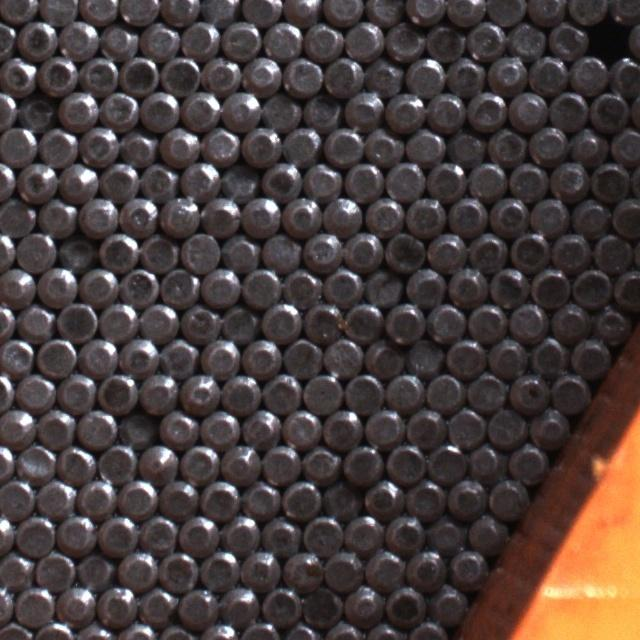tool: (261, 582, 303, 624), (385, 580, 427, 622), (527, 404, 569, 446), (17, 16, 58, 58), (362, 546, 403, 588), (591, 230, 632, 272), (550, 371, 592, 412), (383, 230, 424, 272), (13, 584, 54, 625), (342, 442, 383, 483), (341, 299, 382, 340), (55, 511, 96, 552), (117, 192, 158, 233), (445, 475, 486, 516), (158, 549, 199, 590), (116, 546, 156, 588), (322, 546, 362, 588), (384, 301, 426, 341), (56, 299, 98, 339), (137, 370, 177, 412), (321, 406, 361, 448), (569, 336, 611, 376), (179, 87, 219, 129), (405, 545, 445, 587), (468, 228, 508, 270), (528, 262, 570, 302), (302, 370, 342, 411), (404, 193, 444, 234), (36, 335, 77, 375), (14, 513, 55, 553), (342, 511, 383, 551), (178, 371, 218, 412), (17, 159, 58, 199), (448, 545, 488, 586), (200, 265, 240, 306), (362, 193, 402, 234), (33, 547, 74, 587), (549, 299, 590, 339), (426, 229, 466, 270), (528, 334, 568, 375), (342, 228, 383, 268), (116, 476, 157, 516), (506, 88, 546, 129), (220, 370, 260, 411), (447, 263, 487, 304), (158, 476, 199, 516), (158, 194, 198, 235), (363, 405, 404, 445), (362, 476, 403, 516), (58, 160, 99, 200), (282, 336, 322, 377), (550, 229, 590, 270), (486, 336, 527, 376), (383, 512, 424, 552), (280, 194, 320, 235), (342, 369, 382, 410), (487, 476, 528, 516), (36, 54, 76, 95), (54, 581, 95, 621), (486, 405, 526, 446), (78, 53, 118, 94), (588, 159, 629, 199), (282, 546, 322, 587), (322, 187, 363, 227), (572, 266, 612, 307), (159, 52, 200, 92), (427, 583, 468, 623), (512, 226, 553, 266), (160, 264, 199, 306), (96, 513, 136, 553), (323, 336, 363, 376), (15, 369, 55, 409), (445, 336, 485, 376), (447, 193, 487, 233), (528, 194, 568, 234), (549, 158, 589, 198), (507, 298, 547, 338), (15, 230, 55, 270), (98, 371, 138, 411), (241, 266, 281, 306), (323, 54, 363, 94), (507, 160, 547, 200), (527, 122, 567, 162), (444, 406, 484, 446), (137, 512, 177, 552), (508, 370, 548, 410), (96, 584, 136, 624), (198, 546, 238, 586), (570, 195, 610, 235), (527, 53, 567, 93), (385, 159, 425, 199), (55, 370, 95, 410), (138, 298, 178, 338), (158, 335, 198, 375), (199, 195, 239, 235), (323, 124, 363, 164), (35, 195, 75, 235), (301, 230, 341, 270), (179, 231, 219, 271), (37, 124, 77, 164), (383, 20, 423, 60), (280, 407, 320, 447), (466, 370, 506, 410), (260, 371, 300, 411), (138, 90, 178, 130), (240, 123, 280, 163), (261, 158, 301, 198), (158, 125, 198, 165), (465, 440, 505, 480), (200, 477, 240, 517), (261, 300, 301, 340), (281, 123, 321, 163), (466, 300, 506, 340), (260, 442, 300, 482), (260, 230, 300, 270), (548, 89, 588, 129), (385, 442, 425, 482), (343, 88, 383, 128), (220, 88, 260, 128), (486, 50, 526, 90), (404, 476, 444, 516), (322, 265, 362, 305), (403, 405, 443, 445), (178, 442, 218, 482), (118, 265, 158, 305), (220, 440, 260, 480), (260, 513, 300, 553), (363, 336, 403, 376), (444, 52, 484, 92), (239, 544, 279, 584), (487, 193, 527, 233), (301, 300, 341, 340), (507, 442, 547, 482), (486, 261, 526, 301), (179, 17, 218, 58), (77, 193, 116, 234), (15, 440, 56, 479), (589, 88, 628, 129), (59, 18, 98, 59), (177, 512, 218, 551), (282, 55, 321, 96), (466, 89, 505, 130), (384, 90, 423, 131), (423, 20, 464, 59), (424, 369, 463, 409), (404, 336, 443, 376), (343, 19, 382, 59), (138, 19, 178, 58), (302, 513, 342, 552), (426, 512, 465, 552), (240, 476, 279, 516), (242, 53, 281, 93), (546, 19, 586, 58), (466, 159, 506, 198), (221, 18, 260, 58), (568, 53, 608, 92), (425, 300, 464, 340), (200, 54, 239, 94), (99, 299, 138, 339), (384, 369, 423, 409), (76, 474, 115, 514), (404, 55, 443, 95), (199, 407, 238, 447), (240, 336, 280, 375), (177, 586, 216, 626), (425, 159, 465, 198), (77, 335, 116, 375), (36, 265, 75, 305), (200, 124, 239, 164), (98, 230, 137, 270), (425, 90, 464, 130), (76, 407, 115, 447), (15, 300, 54, 340), (75, 549, 115, 588), (364, 266, 403, 306), (280, 478, 320, 517), (404, 125, 444, 164), (35, 476, 74, 516), (486, 125, 526, 164), (343, 581, 383, 620), (405, 264, 444, 304), (78, 264, 117, 304), (180, 302, 220, 341), (137, 584, 176, 624), (178, 159, 218, 198), (220, 231, 259, 271), (220, 302, 260, 341), (219, 580, 259, 619), (117, 335, 157, 374), (424, 443, 464, 482), (282, 265, 321, 305), (592, 301, 632, 340), (587, 18, 627, 57), (240, 194, 278, 235), (465, 512, 506, 550), (303, 20, 342, 59), (301, 442, 340, 481), (262, 20, 301, 59), (364, 56, 403, 95), (100, 88, 139, 127), (117, 408, 156, 447), (139, 232, 178, 271), (78, 124, 117, 163), (261, 91, 300, 130), (58, 89, 97, 128), (465, 19, 504, 58), (220, 161, 259, 200), (302, 91, 341, 130), (220, 511, 259, 550), (303, 586, 342, 625), (301, 160, 341, 198), (198, 336, 238, 374), (343, 160, 383, 198), (97, 441, 137, 479), (321, 478, 361, 516), (36, 407, 74, 447), (56, 442, 94, 482), (445, 125, 485, 163), (158, 407, 196, 447), (16, 92, 56, 130), (119, 52, 159, 90), (99, 20, 138, 58), (506, 19, 545, 57), (98, 159, 136, 198), (138, 160, 177, 198), (568, 124, 606, 163), (241, 406, 280, 444), (118, 127, 157, 165), (363, 126, 402, 164), (56, 232, 94, 271), (138, 440, 176, 478), (0, 52, 36, 92), (0, 123, 36, 163), (0, 475, 34, 516), (0, 335, 35, 374), (0, 264, 35, 303), (0, 404, 34, 444), (0, 196, 34, 235), (0, 548, 33, 588), (607, 54, 640, 94), (611, 194, 640, 235), (609, 124, 640, 162), (613, 266, 640, 308), (364, 0, 404, 25), (485, 0, 525, 25), (240, 0, 280, 25), (322, 0, 362, 24), (444, 0, 484, 24), (406, 617, 447, 640), (160, 0, 199, 24), (526, 0, 566, 23), (404, 0, 444, 23), (78, 0, 118, 23), (120, 0, 159, 23), (281, 0, 320, 23), (282, 617, 321, 640), (567, 0, 607, 22), (240, 618, 280, 640), (116, 618, 156, 640), (74, 618, 114, 640), (38, 0, 78, 22), (364, 618, 404, 640), (200, 0, 238, 23), (323, 618, 362, 640), (34, 619, 74, 640), (198, 620, 238, 640), (0, 0, 36, 22), (156, 621, 196, 640), (607, 0, 640, 22), (0, 18, 16, 58), (0, 88, 15, 128)
